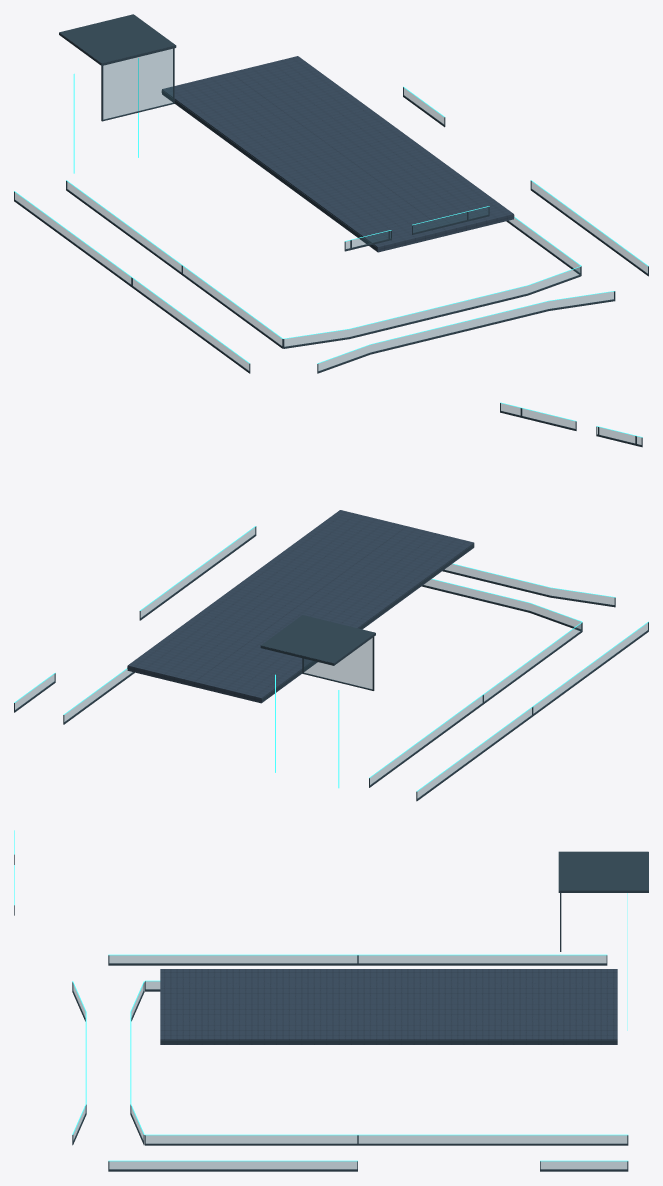
Rendered from east-loggia-portal-0-slender.glb.
3 renders of one model, top to bottom at view 1: azimuth 30°, elevation 25°; view 2: azimuth 150°, elevation 25°; view 3: azimuth 270°, elevation 25°, orthographic. The views are drawn at different scales.
Visible parts, largest first — view 1: east-loggia-portal-0-slender::momentum-landing, east-loggia-portal-0-slender::mastery-mantle-cover-front-gla, east-loggia-portal-0-slender::mastery-mantle-cover-roof, east-loggia-portal-0-slender::public-guard-0173, east-loggia-portal-0-slender::public-guard-0172, east-loggia-portal-0-slender::public-guard-0099, east-loggia-portal-0-slender::public-guard-0120, east-loggia-portal-0-slender::public-guard-0097, east-loggia-portal-0-slender::public-guard-0098, east-loggia-portal-0-slender::public-guard-0100, east-loggia-portal-0-slender::detail-fascia-momentum-landing, east-loggia-portal-0-slender::public-guard-0119 (+1 smaller); view 2: east-loggia-portal-0-slender::momentum-landing, east-loggia-portal-0-slender::mastery-mantle-cover-roof, east-loggia-portal-0-slender::mastery-mantle-cover-front-gla, east-loggia-portal-0-slender::public-guard-0173, east-loggia-portal-0-slender::public-guard-0172, east-loggia-portal-0-slender::public-guard-0120, east-loggia-portal-0-slender::public-guard-0097, east-loggia-portal-0-slender::public-guard-0099, east-loggia-portal-0-slender::public-guard-0098, east-loggia-portal-0-slender::public-guard-0100, east-loggia-portal-0-slender::public-guard-0117, east-loggia-portal-0-slender::detail-fascia-momentum-landing; view 3: east-loggia-portal-0-slender::momentum-landing, east-loggia-portal-0-slender::mastery-mantle-cover-roof, east-loggia-portal-0-slender::public-guard-0117, east-loggia-portal-0-slender::public-guard-0097, east-loggia-portal-0-slender::public-guard-0099, east-loggia-portal-0-slender::public-guard-0120, east-loggia-portal-0-slender::public-guard-0119, east-loggia-portal-0-slender::detail-fascia-momentum-landing, east-loggia-portal-0-slender::public-guard-0118, east-loggia-portal-0-slender::public-guard-0117-cap, east-loggia-portal-0-slender::public-guard-0099-cap, east-loggia-portal-0-slender::public-guard-0120-cap (+1 smaller).
Boxes of the visible parts, bbox=[...] form: east-loggia-portal-0-slender::momentum-landing: bbox=[162, 56, 513, 252]; east-loggia-portal-0-slender::mastery-mantle-cover-front-gla: bbox=[103, 49, 172, 119]; east-loggia-portal-0-slender::mastery-mantle-cover-roof: bbox=[59, 14, 176, 65]; east-loggia-portal-0-slender::public-guard-0173: bbox=[317, 291, 615, 373]; east-loggia-portal-0-slender::public-guard-0172: bbox=[283, 267, 581, 348]; east-loggia-portal-0-slender::public-guard-0099: bbox=[131, 278, 250, 373]; east-loggia-portal-0-slender::public-guard-0120: bbox=[530, 181, 648, 276]; east-loggia-portal-0-slender::public-guard-0097: bbox=[14, 191, 131, 286]; east-loggia-portal-0-slender::public-guard-0098: bbox=[66, 181, 181, 274]; east-loggia-portal-0-slender::public-guard-0100: bbox=[182, 265, 283, 348]; east-loggia-portal-0-slender::detail-fascia-momentum-landing: bbox=[161, 90, 377, 250]; east-loggia-portal-0-slender::public-guard-0119: bbox=[506, 218, 581, 275]; east-loggia-portal-0-slender::momentum-landing: bbox=[127, 510, 474, 703]; east-loggia-portal-0-slender::mastery-mantle-cover-roof: bbox=[260, 615, 375, 665]; east-loggia-portal-0-slender::mastery-mantle-cover-front-gla: bbox=[304, 638, 372, 689]; east-loggia-portal-0-slender::public-guard-0173: bbox=[442, 564, 615, 607]; east-loggia-portal-0-slender::public-guard-0172: bbox=[421, 579, 581, 630]; east-loggia-portal-0-slender::public-guard-0120: bbox=[139, 526, 256, 620]; east-loggia-portal-0-slender::public-guard-0097: bbox=[416, 707, 532, 801]; east-loggia-portal-0-slender::public-guard-0099: bbox=[533, 622, 648, 716]; east-loggia-portal-0-slender::public-guard-0098: bbox=[369, 695, 483, 787]; east-loggia-portal-0-slender::public-guard-0100: bbox=[483, 622, 582, 703]; east-loggia-portal-0-slender::public-guard-0117: bbox=[63, 669, 134, 724]; east-loggia-portal-0-slender::detail-fascia-momentum-landing: bbox=[261, 544, 474, 701]; east-loggia-portal-0-slender::momentum-landing: bbox=[160, 969, 617, 1044]; east-loggia-portal-0-slender::mastery-mantle-cover-roof: bbox=[558, 851, 648, 892]; east-loggia-portal-0-slender::public-guard-0117: bbox=[358, 1135, 628, 1145]; east-loggia-portal-0-slender::public-guard-0097: bbox=[358, 955, 607, 965]; east-loggia-portal-0-slender::public-guard-0099: bbox=[108, 955, 357, 965]; east-loggia-portal-0-slender::public-guard-0120: bbox=[108, 1161, 357, 1171]; east-loggia-portal-0-slender::public-guard-0119: bbox=[145, 1135, 357, 1145]; east-loggia-portal-0-slender::detail-fascia-momentum-landing: bbox=[160, 1040, 617, 1043]; east-loggia-portal-0-slender::public-guard-0118: bbox=[540, 1161, 628, 1171]; east-loggia-portal-0-slender::public-guard-0117-cap: bbox=[358, 1134, 627, 1135]; east-loggia-portal-0-slender::public-guard-0099-cap: bbox=[108, 954, 357, 955]; east-loggia-portal-0-slender::public-guard-0120-cap: bbox=[108, 1160, 357, 1161].
Bounding box in the file's own units: 46.98 × 17.13 × 61.09.
Materials: 5 (1 with a texture image).
